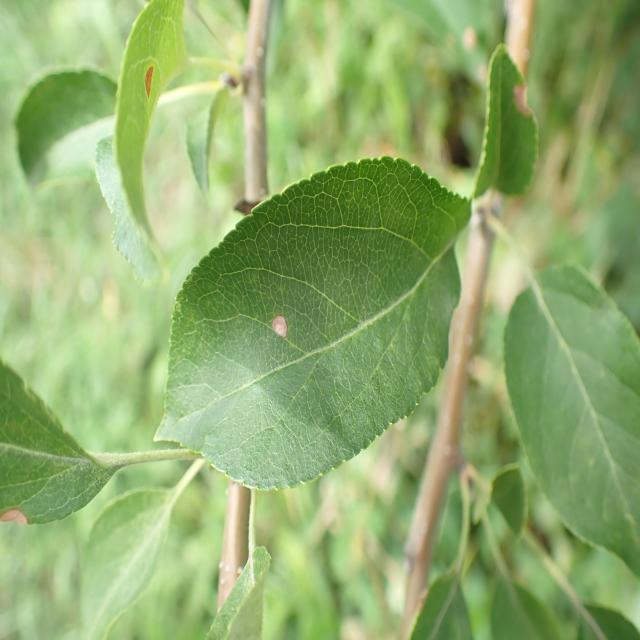Black Rot: (135, 46, 179, 131), (501, 60, 541, 142), (259, 310, 310, 368)
